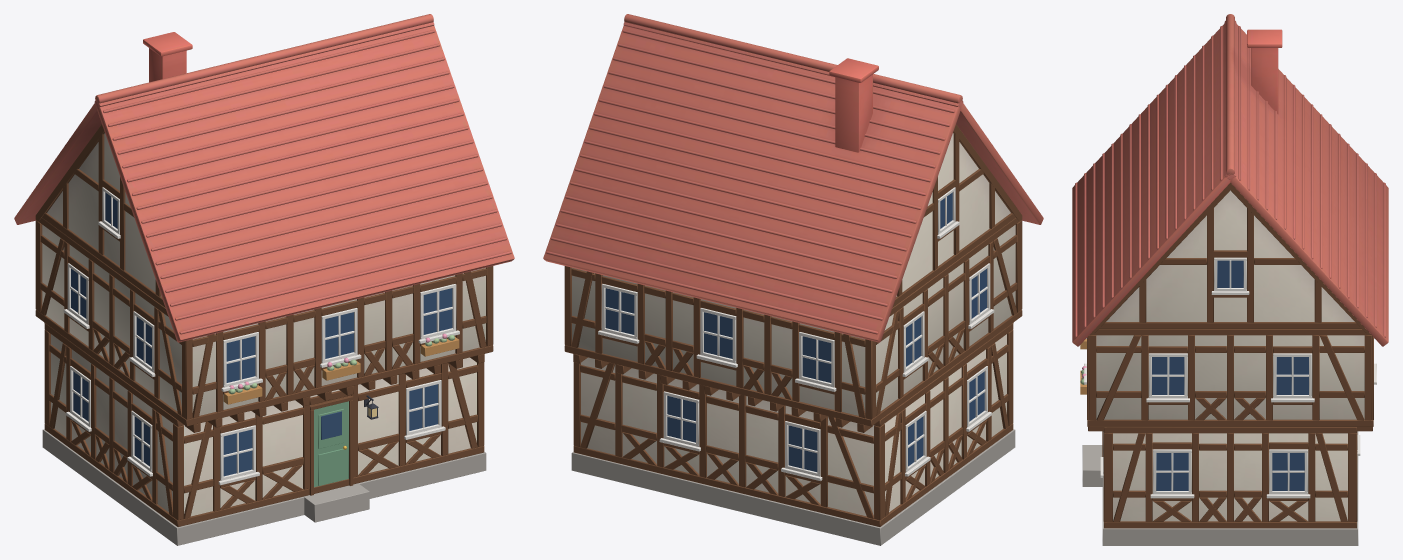
Rendered from timber-frame-house.glb.
The picture shows the model from 3 angles, left to right: view 1: azimuth 30°, elevation 25°; view 2: azimuth 150°, elevation 25°; view 3: azimuth 270°, elevation 25°; orthographic projection. The views are drawn at different scales.
Parts seen in each view (by area): view 1: timber-frame-house_body, timber-frame-house_timbers, timber-frame-house_details; view 2: timber-frame-house_body, timber-frame-house_timbers, timber-frame-house_details; view 3: timber-frame-house_body, timber-frame-house_timbers, timber-frame-house_details.
Part boxes in pixels (left/top/right/bottom): timber-frame-house_body: left=14, top=14, right=514, bottom=516; timber-frame-house_timbers: left=35, top=124, right=493, bottom=526; timber-frame-house_details: left=42, top=187, right=486, bottom=545; timber-frame-house_body: left=543, top=14, right=1043, bottom=516; timber-frame-house_timbers: left=564, top=124, right=1022, bottom=526; timber-frame-house_details: left=571, top=187, right=1015, bottom=545; timber-frame-house_body: left=1072, top=14, right=1388, bottom=521; timber-frame-house_timbers: left=1087, top=183, right=1373, bottom=528; timber-frame-house_details: left=1080, top=257, right=1376, bottom=545.
Size of the model in its own units: 8.84 by 10.67 by 7.62.
Materials: 12 (1 with a texture image).
